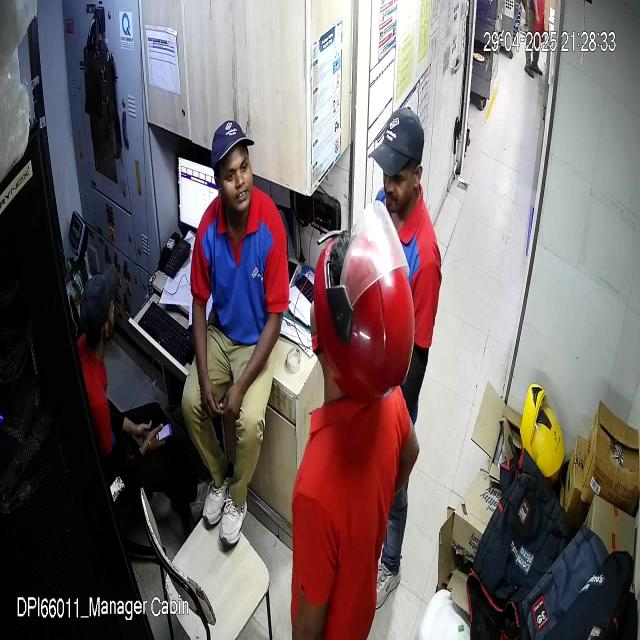helmet: (309, 197, 414, 404), (520, 383, 565, 478)
no_helmet: (369, 107, 425, 222), (211, 120, 255, 238), (79, 264, 117, 361)
